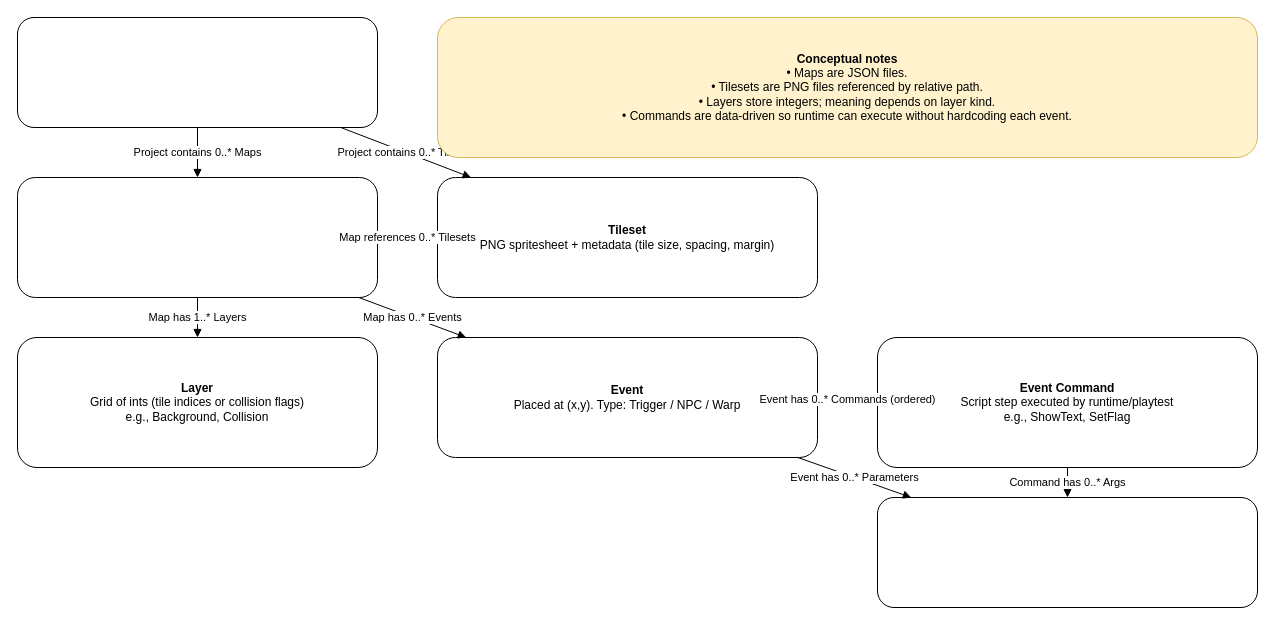
Image size: 1275x625. Some labels were removed from this diagram. The centre of each missing label's shape, as x and y in pixels:
Map A playable area made of tiles, collision + events: point (197, 237)
Parameter Key-value settings (event config, command args): point (1067, 552)
Project A folder containing maps + assets + (optional) editor DB: point (197, 72)
